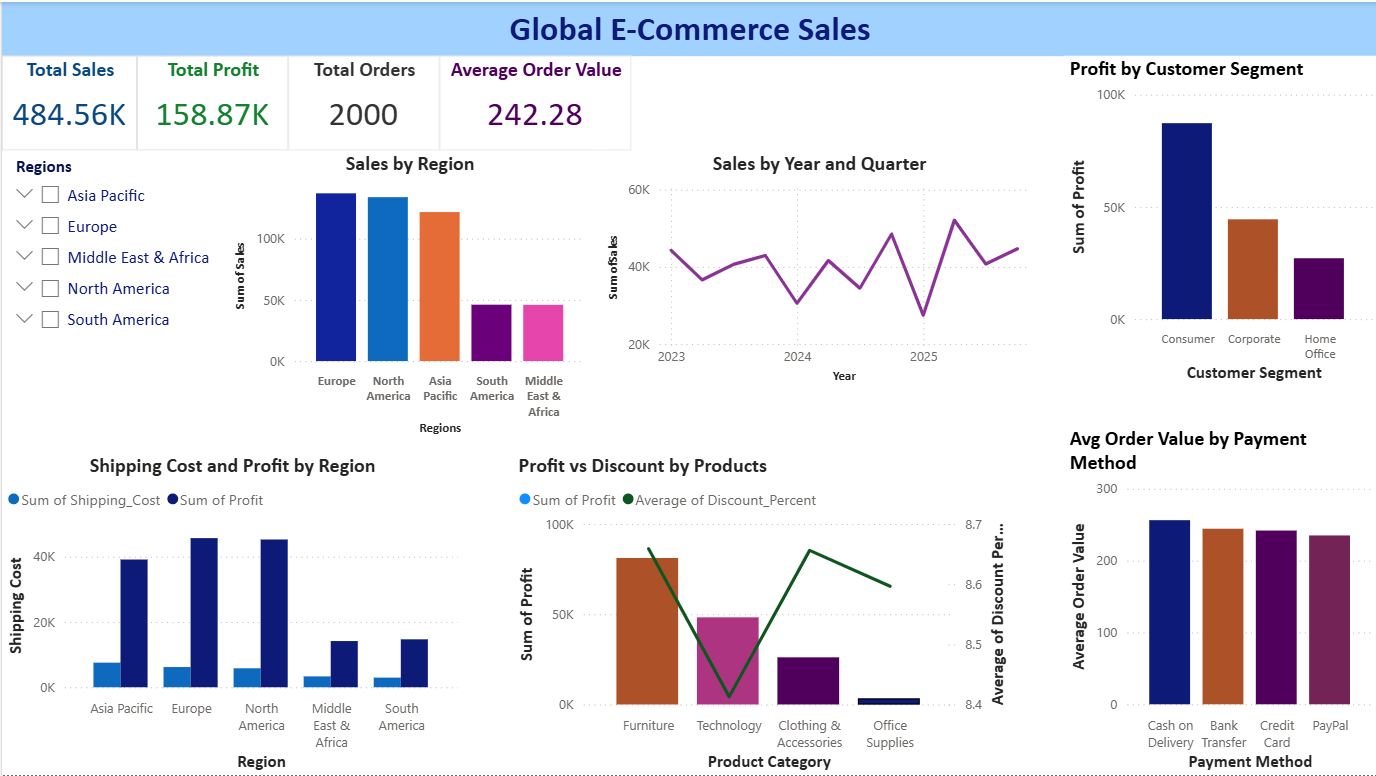

Layout of this report page (visuals, bound fields, positions):
{"tool":"powerbi","page":{"name":"Page 1","canvas":[1280,720],"ordinal":0},"visuals":[{"type":"textbox","box":[0,0,1280.3,50.1],"z":0},{"type":"actionButton","box":[0,0,100,40],"z":1000},{"type":"card","title":"Total Sales","fields":{"Values":["Sum(global_ecommerce_sales.Total_Sales)"]},"box":[0,50.1,126,88],"z":2000},{"type":"card","title":"Total Profit","fields":{"Values":["Sum(global_ecommerce_sales.Profit)"]},"box":[126,50.1,140.6,88],"z":3000},{"type":"card","title":"Total Orders","fields":{"Values":["Count(global_ecommerce_sales.Order_ID)"]},"box":[266.6,50.1,140.6,88],"z":4000},{"type":"card","title":"Average Order Value","fields":{"Values":["Avg(global_ecommerce_sales.Total_Sales)"]},"box":[407.2,50.1,178.5,88],"z":5000},{"type":"columnChart","title":"Sales by Region","fields":{"Category":["global_ecommerce_sales.Region"],"Y":["Sum(global_ecommerce_sales.Total_Sales)"]},"box":[211.6,138.2,336.3,270.2],"z":6000},{"type":"clusteredColumnChart","title":"Shipping Cost and Profit by Region","fields":{"Category":["global_ecommerce_sales.Region"],"Y":["Sum(global_ecommerce_sales.Shipping_Cost)","Sum(global_ecommerce_sales.Profit)"]},"box":[0,419.4,429.2,300.8],"z":7000},{"type":"lineChart","title":"Sales by Year and Quarter","fields":{"Category":["global_ecommerce_sales.Order_Date.Variation.Date Hierarchy.Year","global_ecommerce_sales.Order_Date.Variation.Date Hierarchy.Quarter"],"Y":["Sum(global_ecommerce_sales.Total_Sales)"]},"box":[557.6,138.2,404.8,221.3],"z":8000},{"type":"clusteredColumnChart","title":"Avg Order Value by Payment Method","fields":{"Category":["global_ecommerce_sales.Payment_Method"],"Y":["global_ecommerce_sales.Avg Order Value"]},"box":[988,393.8,292.3,326.5],"z":9000},{"type":"clusteredColumnChart","title":" Profit by Customer Segment","fields":{"Category":["global_ecommerce_sales.Customer_Segment"],"Y":["Sum(global_ecommerce_sales.Profit)"]},"box":[988,50.1,292.3,309.4],"z":10000},{"type":"lineClusteredColumnComboChart","title":"Profit vs Discount by Products","fields":{"Category":["global_ecommerce_sales.Product_Category"],"Y":["Sum(global_ecommerce_sales.Profit)"],"Y2":["Avg(global_ecommerce_sales.Discount_Percent)"]},"box":[475.7,419.4,465.9,300.8],"z":11000},{"type":"slicer","fields":{"Values":["global_ecommerce_sales.Region","global_ecommerce_sales.Product_Category"]},"box":[0,138.2,211.6,281.3],"z":12000}]}

Visuals, with their boxes in screenshot pixels (x1, y1, x2, y2), scaled from the page's 1280x720 canvas onto the 1376x776 screenshot:
textbox: left=0, top=0, right=1375, bottom=54
actionButton: left=0, top=0, right=108, bottom=43
"Total Sales" card: left=0, top=54, right=135, bottom=149
"Total Profit" card: left=135, top=54, right=287, bottom=149
"Total Orders" card: left=287, top=54, right=438, bottom=149
"Average Order Value" card: left=438, top=54, right=630, bottom=149
"Sales by Region" columnChart: left=227, top=149, right=589, bottom=440
"Shipping Cost and Profit by Region" clusteredColumnChart: left=0, top=452, right=461, bottom=775
"Sales by Year and Quarter" lineChart: left=599, top=149, right=1035, bottom=387
"Avg Order Value by Payment Method" clusteredColumnChart: left=1062, top=424, right=1375, bottom=775
" Profit by Customer Segment" clusteredColumnChart: left=1062, top=54, right=1375, bottom=387
"Profit vs Discount by Products" lineClusteredColumnComboChart: left=511, top=452, right=1012, bottom=775
slicer - global_ecommerce_sales.Region x global_ecommerce_sales.Product_Category: left=0, top=149, right=227, bottom=452
